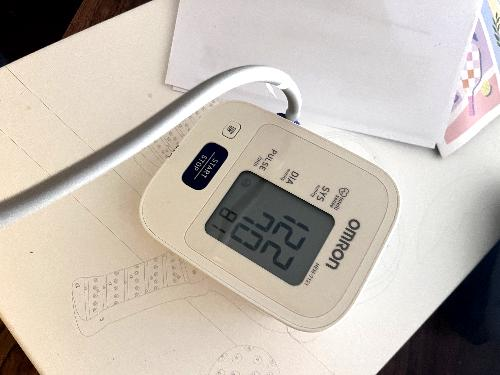bpm: (195, 157, 343, 292)
